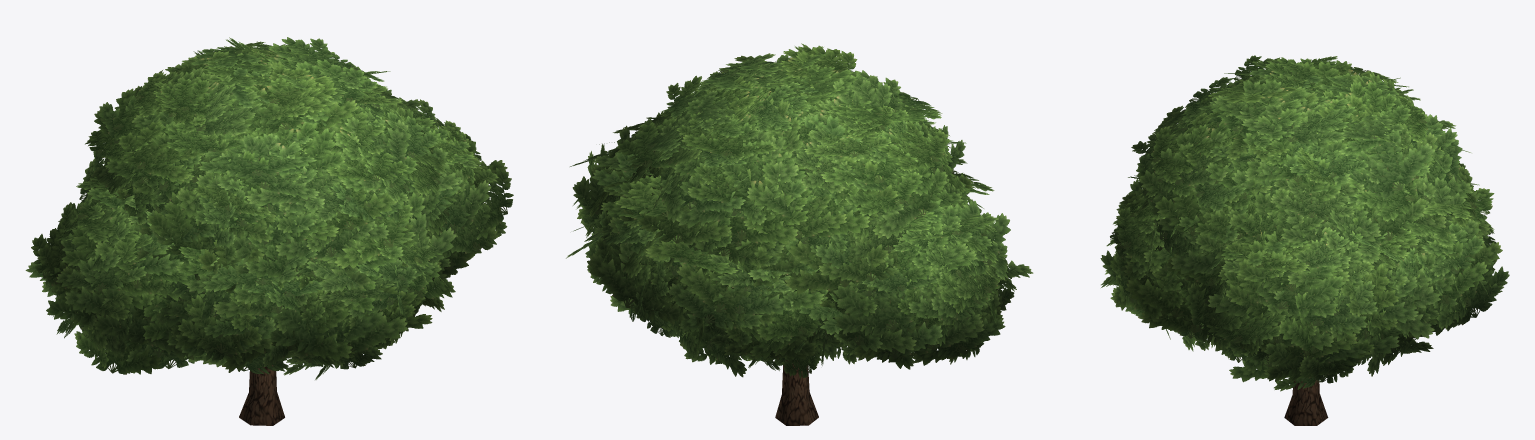
File: broadleaf_b_lod1.glb
3 renders of one model, left to right at view 1: azimuth 30°, elevation 25°; view 2: azimuth 150°, elevation 25°; view 3: azimuth 270°, elevation 25°, orthographic. The views are drawn at different scales.
Parts seen in each view (by area): view 1: leaves, wood; view 2: leaves, wood; view 3: leaves, wood.
Boxes of the visible parts, box(x1,y1,x2,y2) form: leaves: box(25, 37, 513, 379); wood: box(239, 364, 284, 425); leaves: box(566, 43, 1033, 378); wood: box(775, 360, 818, 425); leaves: box(1100, 55, 1509, 391); wood: box(1284, 380, 1328, 425).
Bounding box in the file's own units: 12.89 × 10.12 × 11.08.
2 materials, 2 textured.
